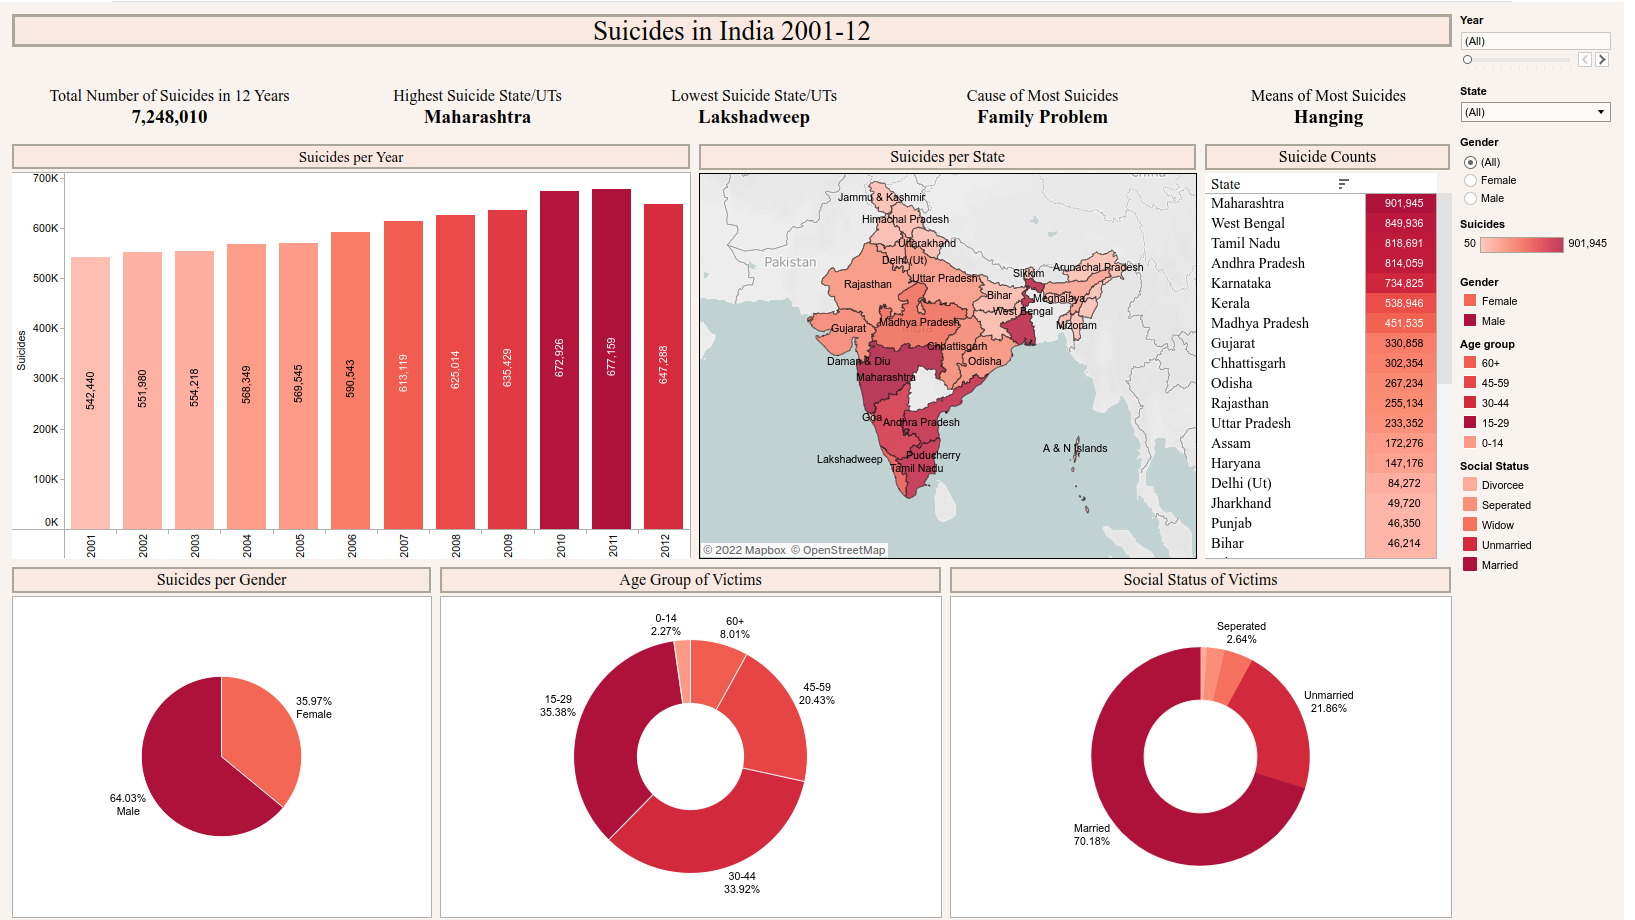

This screenshot's page, from the dashboard's own definition file:
{"tool":"tableau","page":{"name":"Suicides in India 2001-12","canvas":[1000,1000],"units":"permille","ordinal":0},"visuals":[{"type":"title","box":[4.8,10,895.5,48.6]},{"type":"filter","title":"Suicides per State","param":"[federated.13zenxi1sewzxt100b6wm1irxeme].[none:Year:ok]","box":[900.2,10,95,88.4]},{"type":"worksheet","title":"Suicides per State","mark":"Automatic","box":[4.8,58.5,201,292.6]},{"type":"worksheet","title":"Suicide Counts","mark":"Automatic","rows":["State"],"cols":["Total"],"box":[205.8,58.5,201,292.6]},{"type":"worksheet","title":"Suicides per Gender","mark":"Pie","box":[406.8,58.5,166.3,292.6]},{"type":"worksheet","title":"Suicides per Year","mark":"Automatic","rows":["Total"],"cols":["Year"],"box":[573,58.5,327.2,292.6]},{"type":"filter","title":"Suicides per Year","param":"[federated.13zenxi1sewzxt100b6wm1irxeme].[none:State:nk]","box":[900.2,98.4,95,59.8]},{"type":"legend","title":"Suicides per State","param":"[federated.13zenxi1sewzxt100b6wm1irxeme].[sum:Total:qk]","box":[900.2,158.2,95,71]},{"type":"legend","title":"Age Group of Victims","param":"[federated.13zenxi1sewzxt100b6wm1irxeme].[none:Age_group:nk]","box":[900.2,229.1,95,151.9]},{"type":"worksheet","title":"Age Group of Victims","mark":"Automatic","rows":["Total"],"cols":["Year"],"box":[4.8,351.1,355.7,330.1]},{"type":"worksheet","title":"Cause of Suicide (Top 10)","mark":"Automatic","rows":["Type"],"cols":["Total"],"box":[360.4,351.1,269.9,330.1]},{"type":"worksheet","title":"Means of Suicide (Top 5)","mark":"Automatic","rows":["Type"],"cols":["Total"],"box":[630.4,351.1,269.9,330.1]},{"type":"legend","title":"Suicides per Gender","param":"[federated.13zenxi1sewzxt100b6wm1irxeme].[none:Gender:nk]","box":[900.2,381.1,95,77.2]},{"type":"legend","title":"Victim's Social Status","param":"[federated.13zenxi1sewzxt100b6wm1irxeme].[none:Type:nk]","box":[900.2,458.3,95,151.9]},{"type":"worksheet","title":"Victim's Profession","mark":"Automatic","rows":["Type"],"cols":["Total"],"box":[4.8,681.2,355.7,308.9]},{"type":"worksheet","title":"Victims' Education Status","mark":"Automatic","rows":["Type"],"cols":["Total"],"box":[360.4,681.2,305.8,308.9]},{"type":"worksheet","title":"Victim's Social Status","mark":"Pie","box":[666.3,681.2,234,308.9]}]}

Visuals, with their boxes on the dashboard's canvas, which has no fixed pixel size, in thousandths of its width and height (x1, y1, x2, y2). These are canvas units, not pixel positions in the 1635x920 screenshot, which may show the page scaled, cropped or inside an application window:
title: [5, 10, 900, 59]
"Suicides per State" filter: [900, 10, 995, 98]
"Suicides per State" worksheet: [5, 58, 206, 351]
"Suicide Counts" worksheet: [206, 58, 407, 351]
"Suicides per Gender" worksheet (Pie marks): [407, 58, 573, 351]
"Suicides per Year" worksheet: [573, 58, 900, 351]
"Suicides per Year" filter: [900, 98, 995, 158]
"Suicides per State" legend: [900, 158, 995, 229]
"Age Group of Victims" legend: [900, 229, 995, 381]
"Age Group of Victims" worksheet: [5, 351, 360, 681]
"Cause of Suicide (Top 10)" worksheet: [360, 351, 630, 681]
"Means of Suicide (Top 5)" worksheet: [630, 351, 900, 681]
"Suicides per Gender" legend: [900, 381, 995, 458]
"Victim's Social Status" legend: [900, 458, 995, 610]
"Victim's Profession" worksheet: [5, 681, 360, 990]
"Victims' Education Status" worksheet: [360, 681, 666, 990]
"Victim's Social Status" worksheet (Pie marks): [666, 681, 900, 990]
